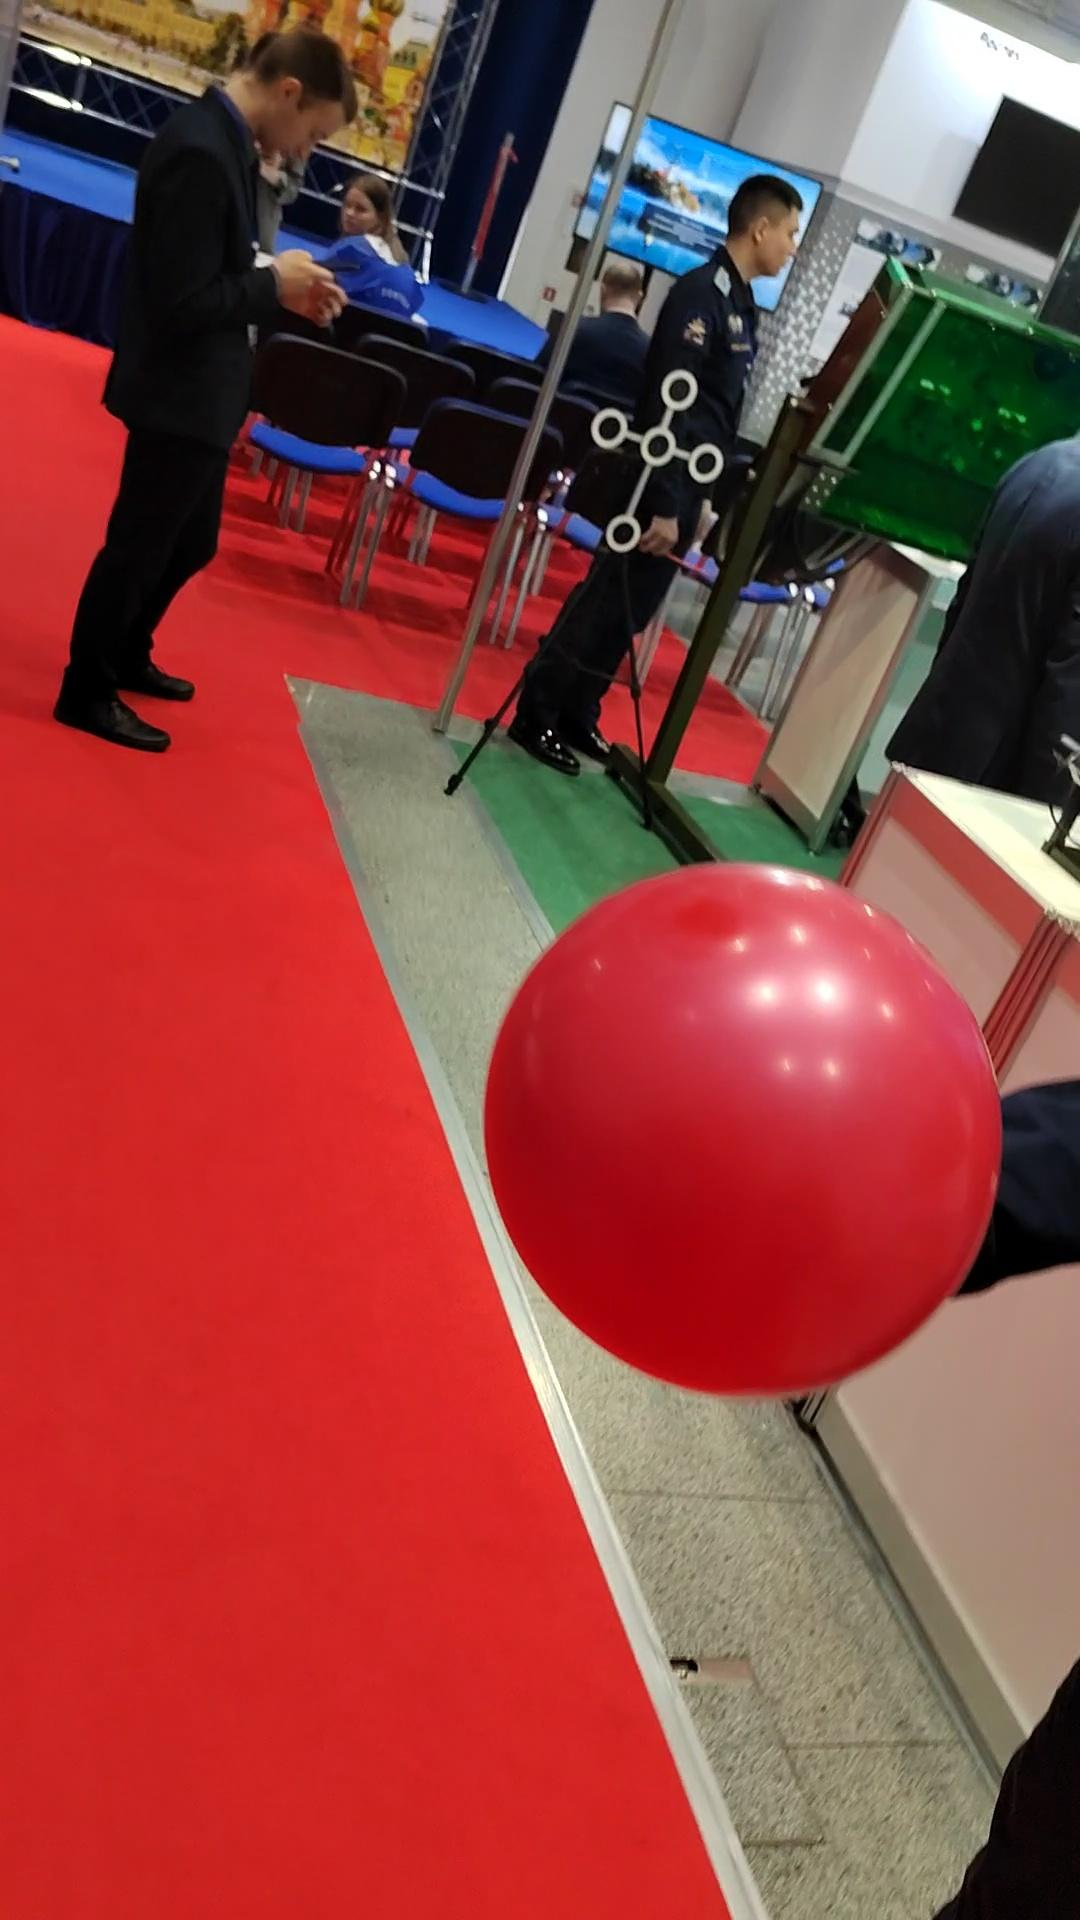red: (473, 847, 1011, 1400)
